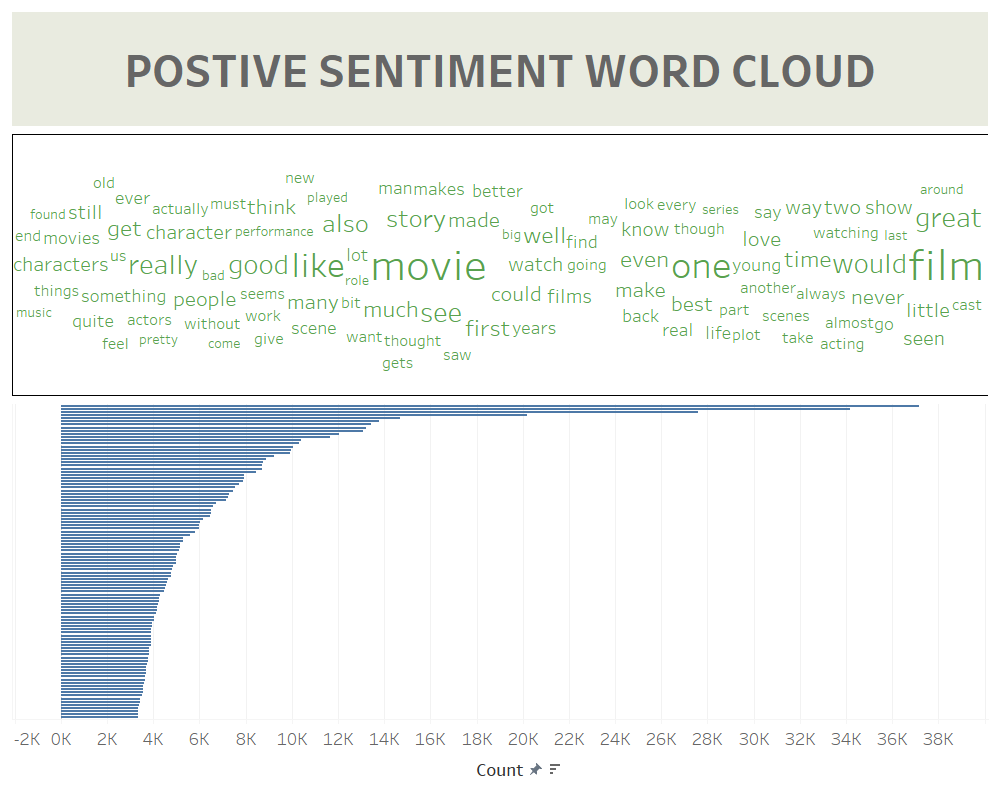

What the dashboard file says about the page in this screenshot:
{"tool":"tableau","page":{"name":"Positive Word Cloud","canvas":[1000,800],"ordinal":0},"visuals":[{"type":"text","box":[8,8,984,122]},{"type":"worksheet","title":"Word Cloud","mark":"Text","box":[8,130,984,270]},{"type":"worksheet","title":"Word Count","mark":"Automatic","rows":["Word"],"cols":["Count"],"box":[8,400,984,392]}]}

Visuals, with their boxes in screenshot pixels (x1, y1, x2, y2), scaled from the page's 1000x800 canvas onto the 1000x800 screenshot:
text: crop(8, 8, 992, 130)
"Word Cloud" worksheet (Text marks): crop(8, 130, 992, 400)
"Word Count" worksheet: crop(8, 400, 992, 792)
